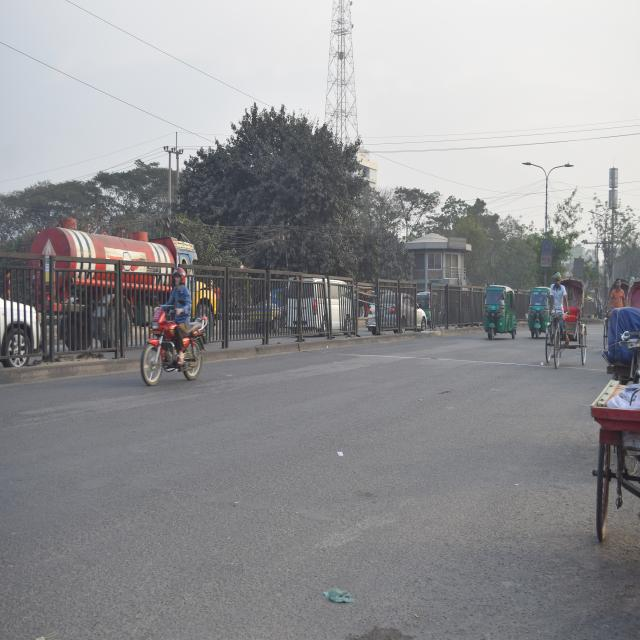car: (370, 282, 423, 335)
microbus: (289, 268, 356, 340)
motorbike: (136, 296, 211, 392)
truck: (32, 210, 219, 348)
